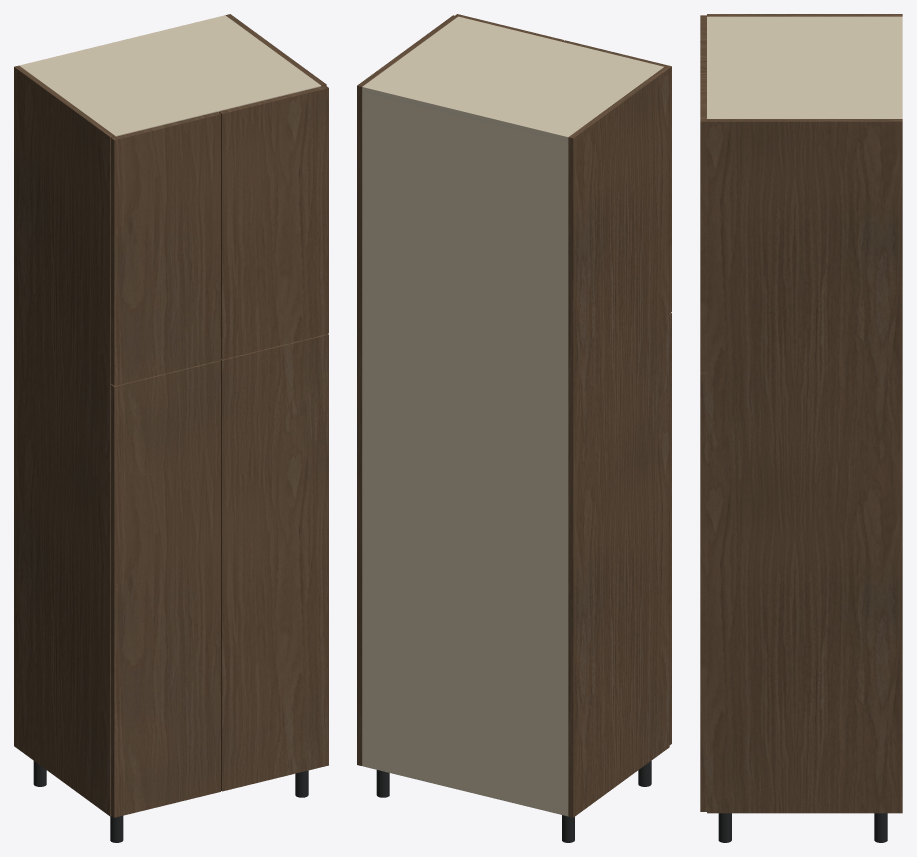
Rendered from oppein-ply-mso-pc3090.glb.
3 renders of one model, left to right at view 1: azimuth 30°, elevation 25°; view 2: azimuth 150°, elevation 25°; view 3: azimuth 270°, elevation 25°, orthographic.
Visible parts, largest first — view 1: Cabinet side, Door, Door.001, Door.002, Door.003, Cabinet top; view 2: Cabinet back, Cabinet side, Cabinet top, Cabinet side.001, Door, Door.002; view 3: Cabinet side.001, Cabinet top, Door.001, Door.003, Cabinet side, Adjustable foot.002, Adjustable foot.003, Cabinet back.
Part boxes in pixels (box(x1,y1,x2,y2)): Cabinet side: box(14, 65, 115, 816); Door: box(111, 360, 220, 817); Door.001: box(220, 334, 328, 791); Door.002: box(111, 112, 220, 385); Door.003: box(219, 85, 328, 359); Cabinet top: box(21, 16, 321, 136); Cabinet back: box(362, 85, 569, 815); Cabinet side: box(568, 67, 669, 817); Cabinet top: box(362, 16, 663, 141); Cabinet side.001: box(357, 15, 457, 765); Door: box(669, 313, 671, 744); Door.002: box(563, 40, 671, 313); Cabinet side.001: box(707, 119, 902, 813); Cabinet top: box(707, 16, 898, 118); Door.001: box(700, 372, 706, 811); Door.003: box(700, 69, 706, 372); Cabinet side: box(707, 14, 902, 16); Adjustable foot.002: box(874, 813, 887, 842); Adjustable foot.003: box(718, 813, 731, 842); Cabinet back: box(899, 16, 902, 118).
Size of the model in its own units: 0.762 by 2.4 by 0.6064.
Materials: 3 (1 with a texture image).
